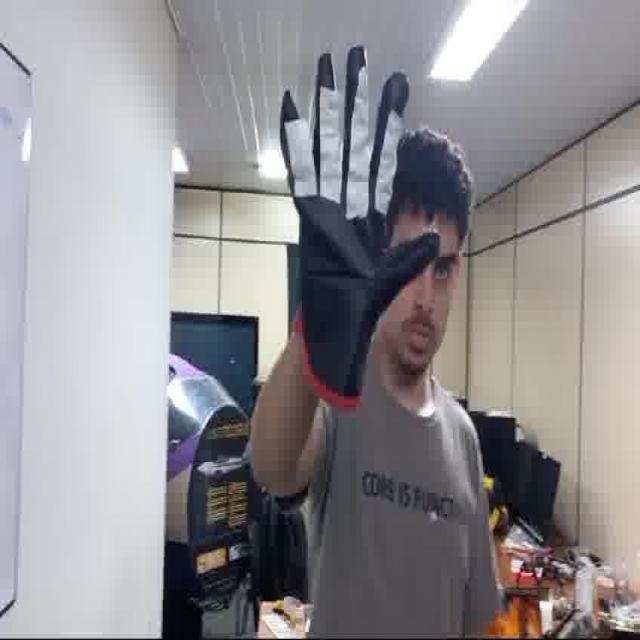Gloves: (280, 48, 440, 406)
